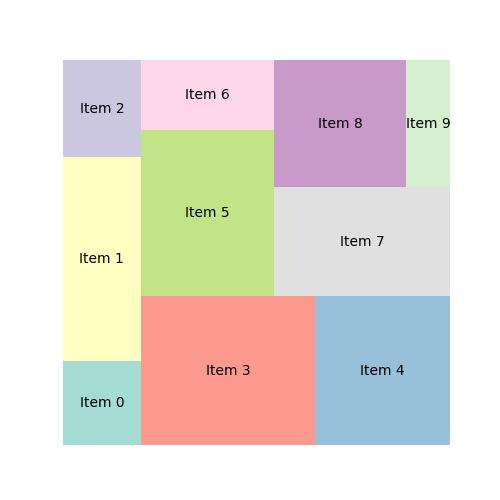rectangle: (141, 294, 316, 444), (141, 130, 276, 295), (314, 296, 450, 444), (275, 188, 450, 296), (274, 60, 406, 187), (63, 157, 141, 361), (140, 59, 274, 131), (61, 59, 140, 156), (62, 361, 141, 446), (406, 59, 450, 187)
